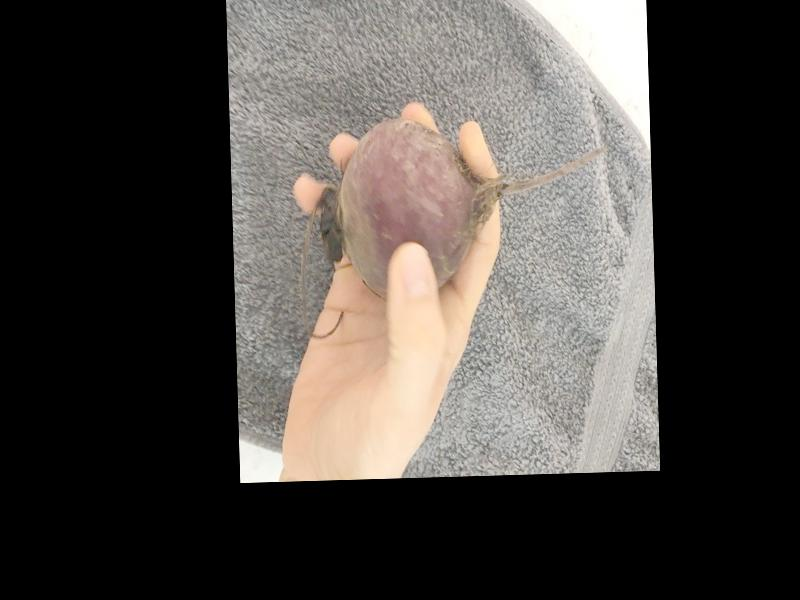Beet: (317, 112, 613, 302)
